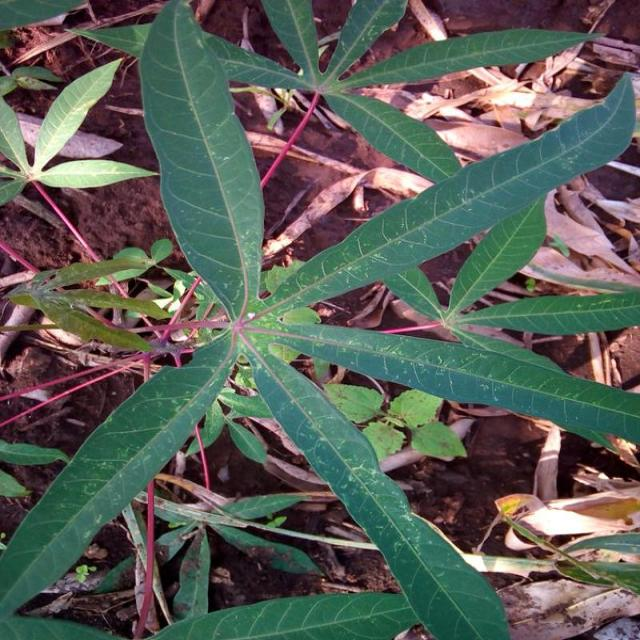cassava leaf: (2, 0, 640, 638), (263, 70, 637, 320), (249, 336, 512, 639), (140, 0, 266, 323)
